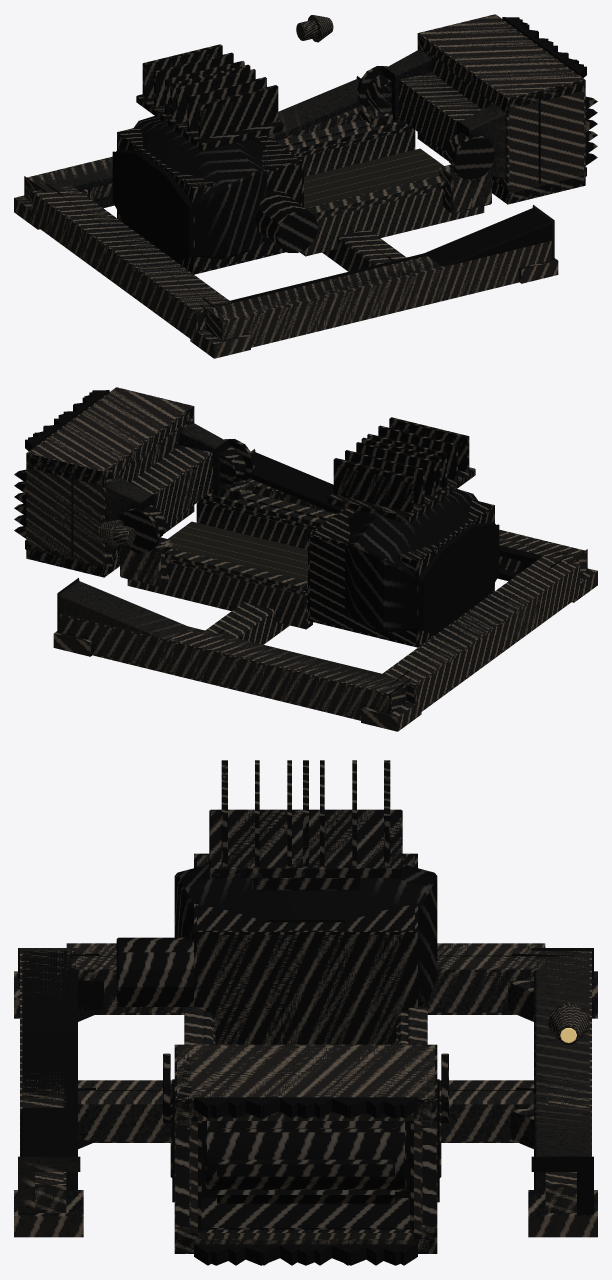
Rendered from extractor.glb.
The picture shows the model from 3 angles, top to bottom: view 1: azimuth 30°, elevation 25°; view 2: azimuth 150°, elevation 25°; view 3: azimuth 270°, elevation 25°; orthographic projection. The views are drawn at different scales.
Visible parts, largest first — view 1: LOD0_extractor, LOD1_extractor, LOD2_extractor, LOD1_head, LOD0_head, LOD2_head, LOD0_belt, LOD0_lamp; view 2: LOD0_extractor, LOD1_extractor, LOD2_extractor, LOD0_head, LOD1_head, LOD2_head, LOD0_belt, LOD0_lamp; view 3: LOD0_extractor, LOD1_extractor, LOD0_head, LOD2_extractor, LOD1_head, LOD2_head, LOD0_lamp.
Boxes of the visible parts, x1,y1,x2,y2 form: LOD0_extractor: [14, 45, 554, 358]; LOD1_extractor: [14, 44, 558, 358]; LOD2_extractor: [25, 51, 551, 347]; LOD1_head: [360, 15, 583, 212]; LOD0_head: [356, 15, 597, 213]; LOD2_head: [399, 14, 585, 204]; LOD0_belt: [304, 148, 443, 208]; LOD0_lamp: [296, 15, 333, 42]; LOD0_extractor: [53, 418, 597, 731]; LOD1_extractor: [55, 417, 597, 723]; LOD2_extractor: [60, 424, 586, 720]; LOD0_head: [14, 388, 255, 586]; LOD1_head: [28, 388, 251, 585]; LOD2_head: [26, 387, 212, 577]; LOD0_belt: [168, 521, 307, 581]; LOD0_lamp: [98, 519, 135, 547]; LOD0_extractor: [14, 760, 597, 1237]; LOD1_extractor: [14, 760, 589, 1212]; LOD0_head: [163, 1045, 448, 1265]; LOD2_extractor: [20, 852, 591, 1212]; LOD1_head: [177, 1046, 434, 1265]; LOD2_head: [174, 1044, 437, 1253]; LOD0_lamp: [548, 1002, 589, 1044].
Size of the model in its own units: 1.92 by 0.78 by 1.51.
Materials: 6 (6 with a texture image).
